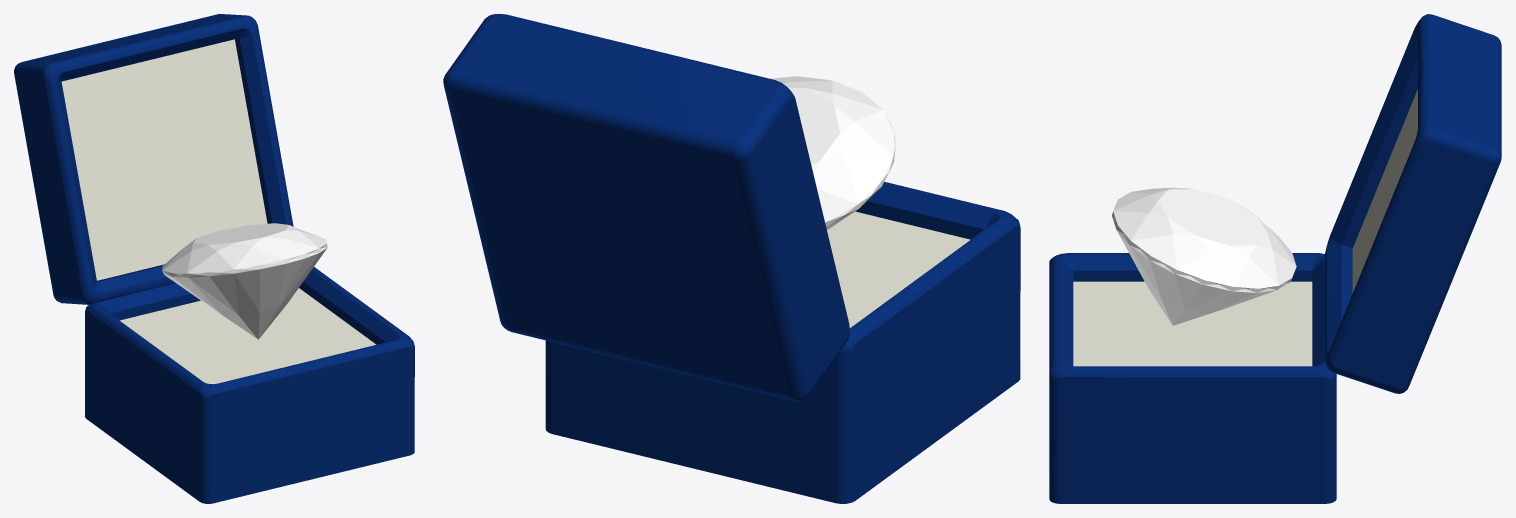
File: JuwelCasemdl.fbx
The picture shows the model from 3 angles, left to right: view 1: azimuth 30°, elevation 25°; view 2: azimuth 150°, elevation 25°; view 3: azimuth 270°, elevation 25°; orthographic projection. The views are drawn at different scales.
Visible parts, largest first — view 1: JuwelCasemdl; view 2: JuwelCasemdl; view 3: JuwelCasemdl.
Part boxes in pixels (x1=…): JuwelCasemdl: x1=14, y1=14, x2=414, y2=503; JuwelCasemdl: x1=443, y1=14, x2=1020, y2=503; JuwelCasemdl: x1=1049, y1=14, x2=1501, y2=503.
Size of the model in its own units: 14.54 by 20.84 by 22.9.
